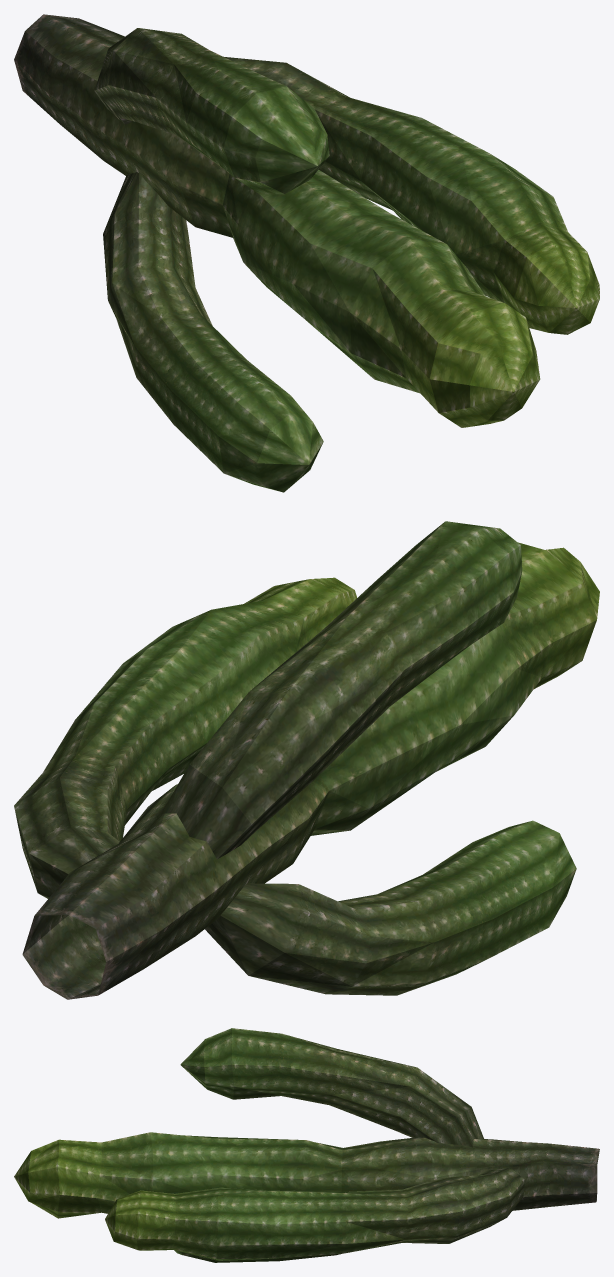
Rendered from pnhg_xianrenzhang01_a.obj.
3 renders of one model, top to bottom at view 1: azimuth 30°, elevation 25°; view 2: azimuth 150°, elevation 25°; view 3: azimuth 270°, elevation 25°, orthographic. The views are drawn at different scales.
Parts seen in each view (by area): view 1: pnhg_xianrenzhang01_a; view 2: pnhg_xianrenzhang01_a; view 3: pnhg_xianrenzhang01_a.
Part boxes in pixels (bbox=[...]): pnhg_xianrenzhang01_a: bbox=[14, 14, 599, 492]; pnhg_xianrenzhang01_a: bbox=[14, 521, 599, 999]; pnhg_xianrenzhang01_a: bbox=[14, 1028, 599, 1262].
Bounding box in the file's own units: 148 × 154 × 345.
3 materials, 3 textured.
